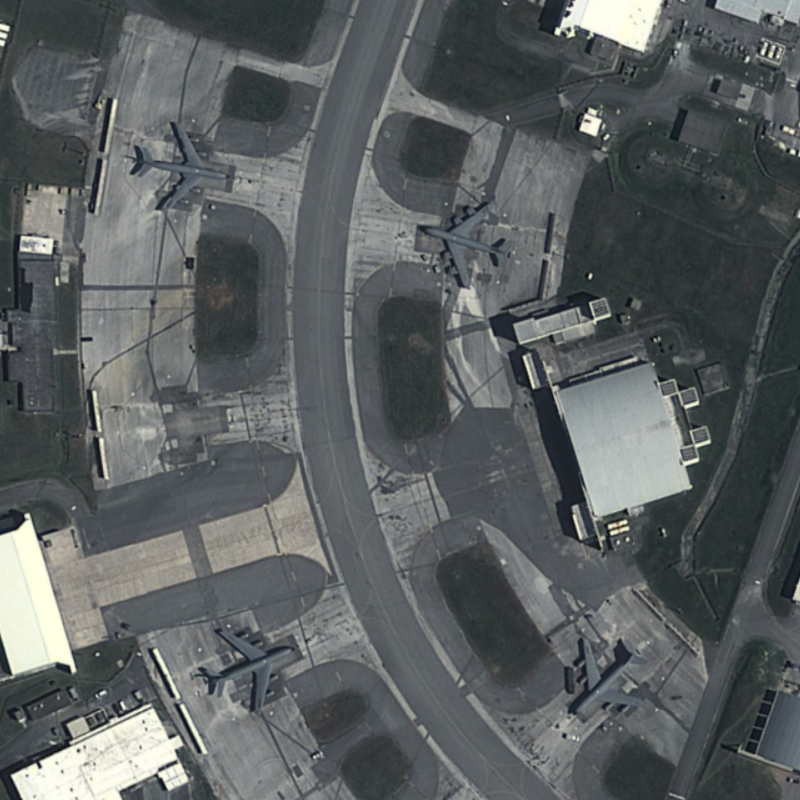A14: (124, 114, 235, 216), (195, 616, 297, 717), (415, 193, 517, 289), (557, 626, 657, 723)
